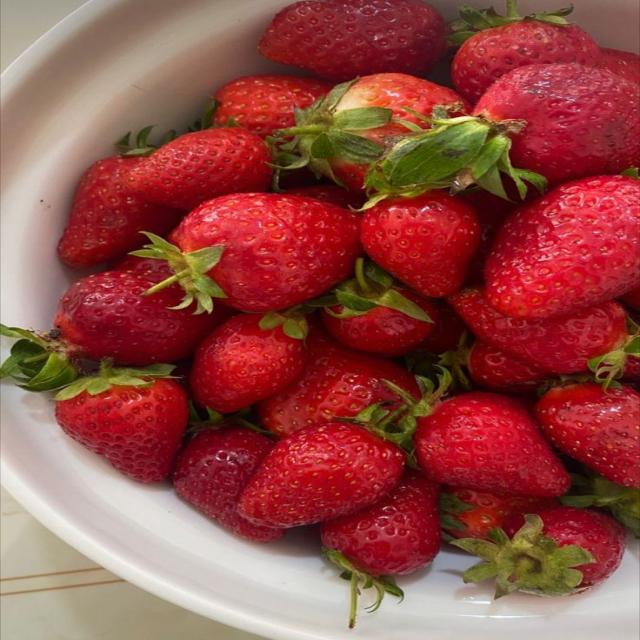strawberry: (367, 64, 639, 201), (137, 193, 361, 312), (279, 73, 467, 190), (485, 176, 639, 318), (474, 64, 639, 184), (320, 471, 440, 628), (240, 421, 405, 527), (258, 330, 419, 436), (54, 271, 228, 365), (415, 392, 570, 497), (55, 361, 187, 482), (452, 506, 625, 597), (259, 0, 446, 81), (449, 288, 627, 373), (451, 0, 599, 102), (58, 157, 184, 267), (172, 426, 285, 542), (320, 470, 440, 576), (361, 191, 480, 297), (126, 127, 272, 210), (190, 314, 306, 413), (321, 259, 437, 356), (535, 383, 639, 487), (214, 75, 333, 137), (440, 486, 559, 540), (461, 189, 518, 285), (561, 472, 639, 538), (467, 341, 549, 393), (417, 301, 466, 353), (282, 183, 364, 209), (110, 254, 173, 279), (596, 48, 639, 84), (619, 285, 639, 311)
